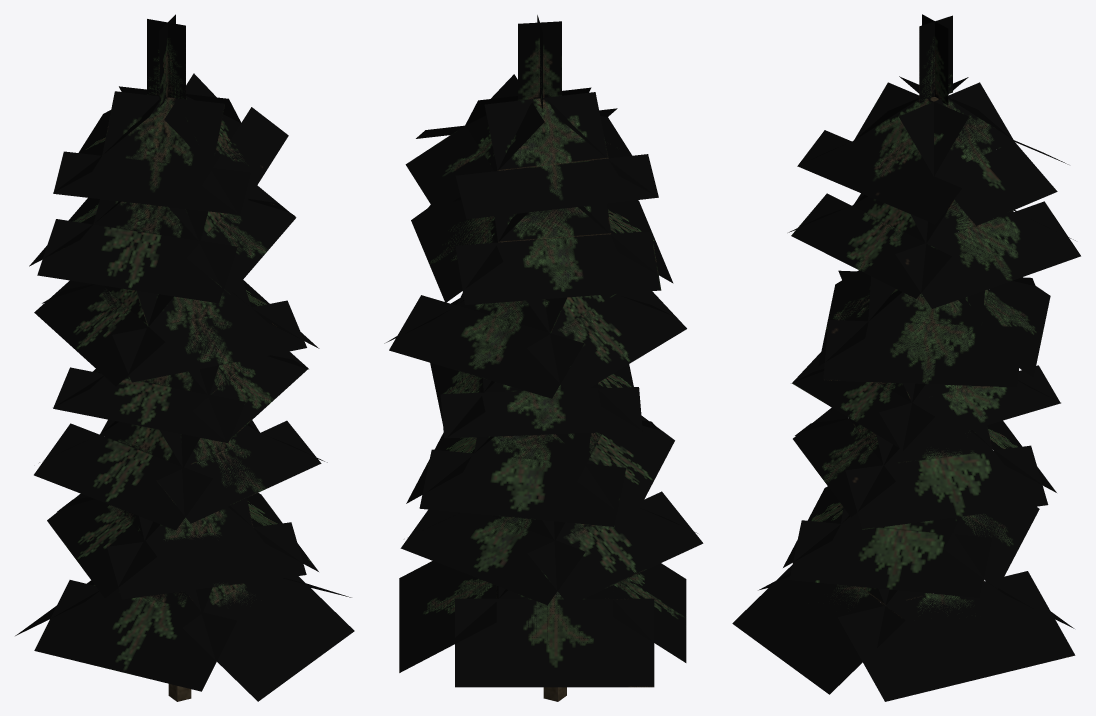
The model's file is Tree.obj.
3 views of the same model, side by side, from view 1: azimuth 30°, elevation 25°; view 2: azimuth 150°, elevation 25°; view 3: azimuth 270°, elevation 25° (orthographic). The views are drawn at different scales.
Parts seen in each view (by area): view 1: cube; view 2: cube; view 3: cube.
Boxes of the visible parts, left/top/right/bottom form: cube: left=15, top=14, right=354, bottom=701; cube: left=384, top=15, right=703, bottom=701; cube: left=732, top=14, right=1080, bottom=701.
Size of the model in its own units: 8.71 by 18.47 by 8.75.
